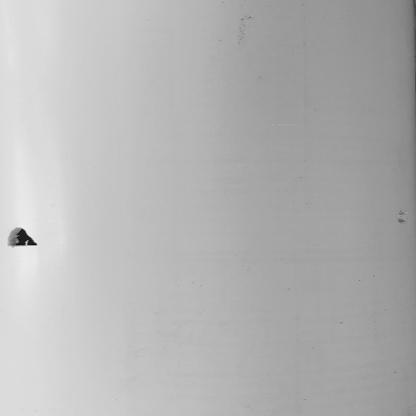kongdong: (7, 221, 44, 251)
